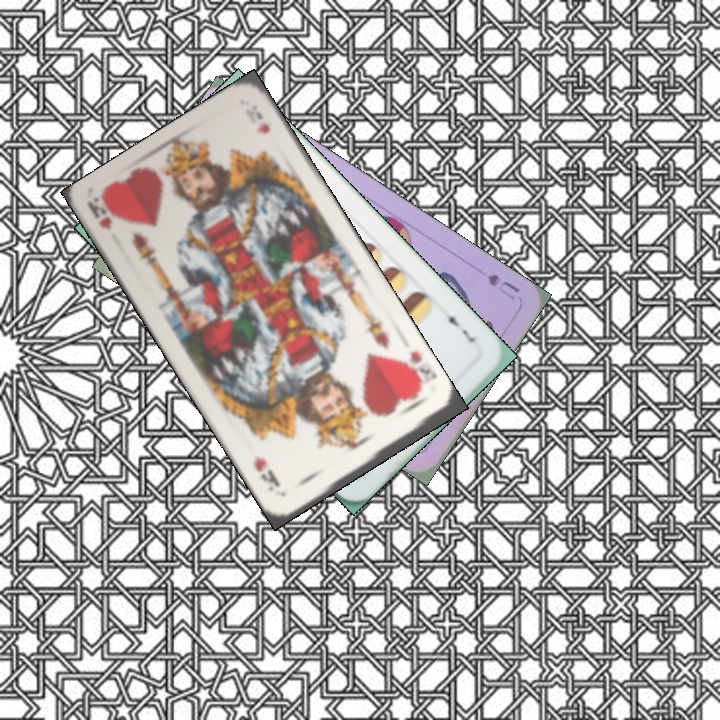E7: (439, 307, 478, 346)
HK: (396, 346, 439, 394), (85, 200, 115, 232)
SU: (483, 270, 523, 303)
